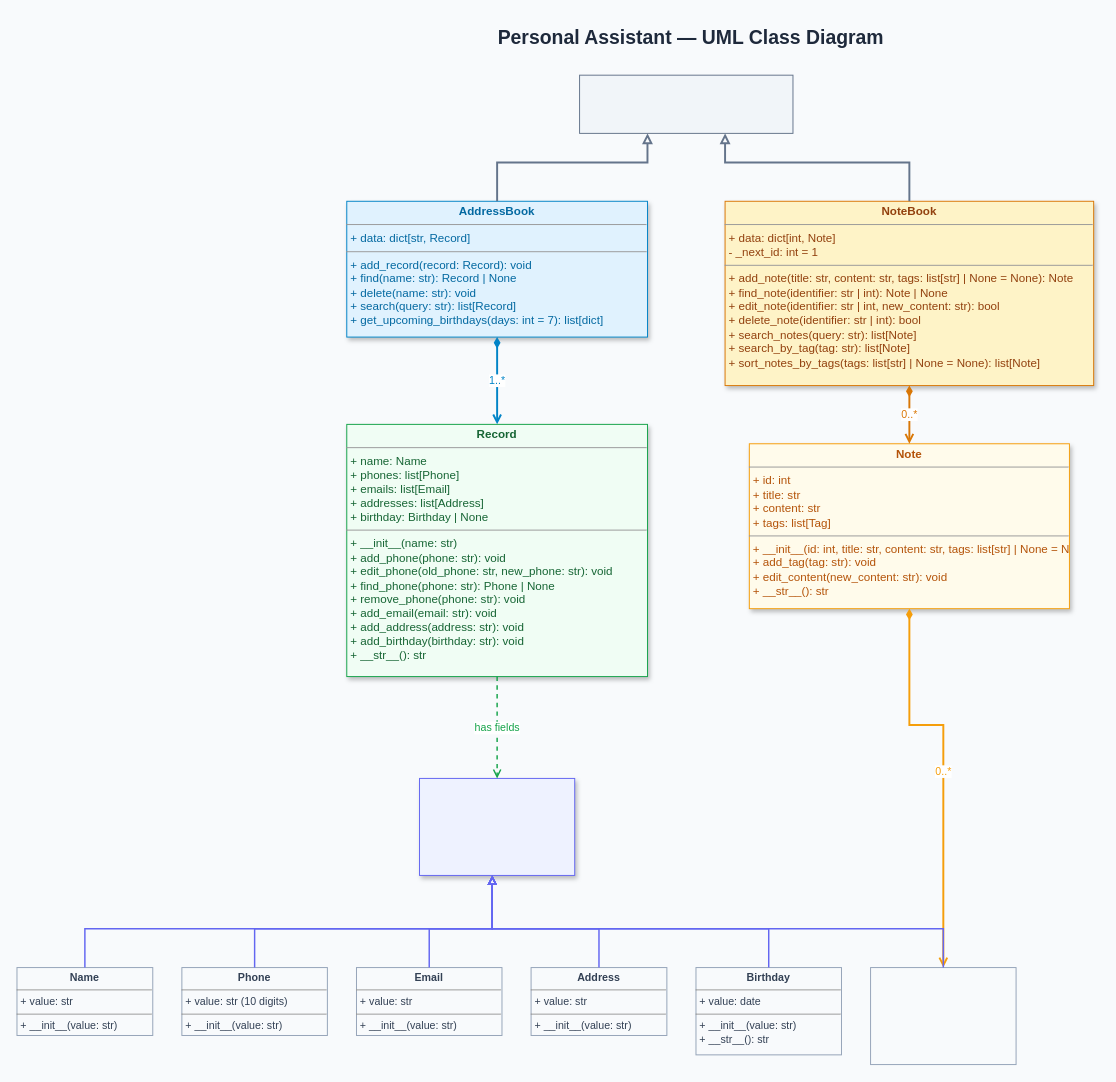
The diagram is 1116 pixels wide and 1082 high, and some of its shapes have lost their labels. Each missing label, with the centre of its shape:
"<<collections.UserDict>> UserDict + data: dict" goes at pixel 686 103.
"Field + value: Any + __init__(value: Any) + __str__(): str" goes at pixel 498 828.
"Tag + value: str + __init__(value: str) + __str__(): str + __eq__(other): bool" goes at pixel 943 1016.
